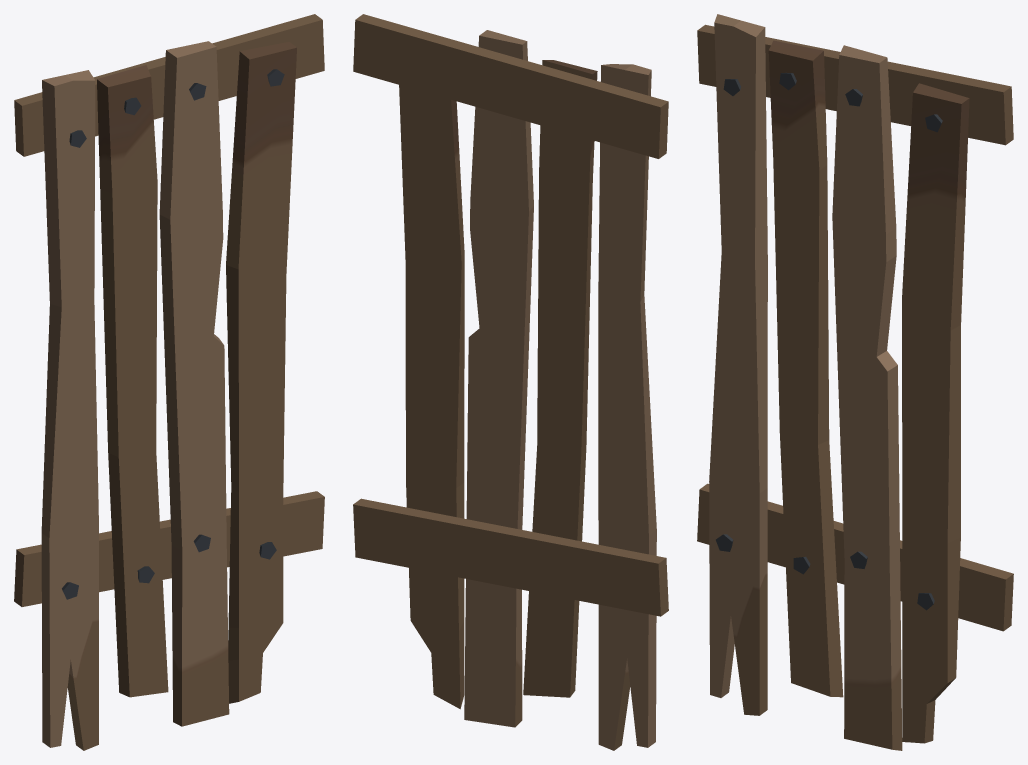
File: SM_Door_Baricade_B.gltf
3 views of the same model, side by side, from view 1: azimuth 30°, elevation 25°; view 2: azimuth 150°, elevation 25°; view 3: azimuth 330°, elevation 25° (orthographic).
Visible parts, largest first — view 1: SM_Door_Baricade_B; view 2: SM_Door_Baricade_B; view 3: SM_Door_Baricade_B.
Boxes of the visible parts, x1=… form: SM_Door_Baricade_B: x1=14, y1=14, x2=324, y2=750; SM_Door_Baricade_B: x1=353, y1=14, x2=668, y2=750; SM_Door_Baricade_B: x1=697, y1=14, x2=1013, y2=750.
Bounding box in the file's own units: 0.9624 × 2.06 × 0.1059.
Materials: 1 (1 with a texture image).
